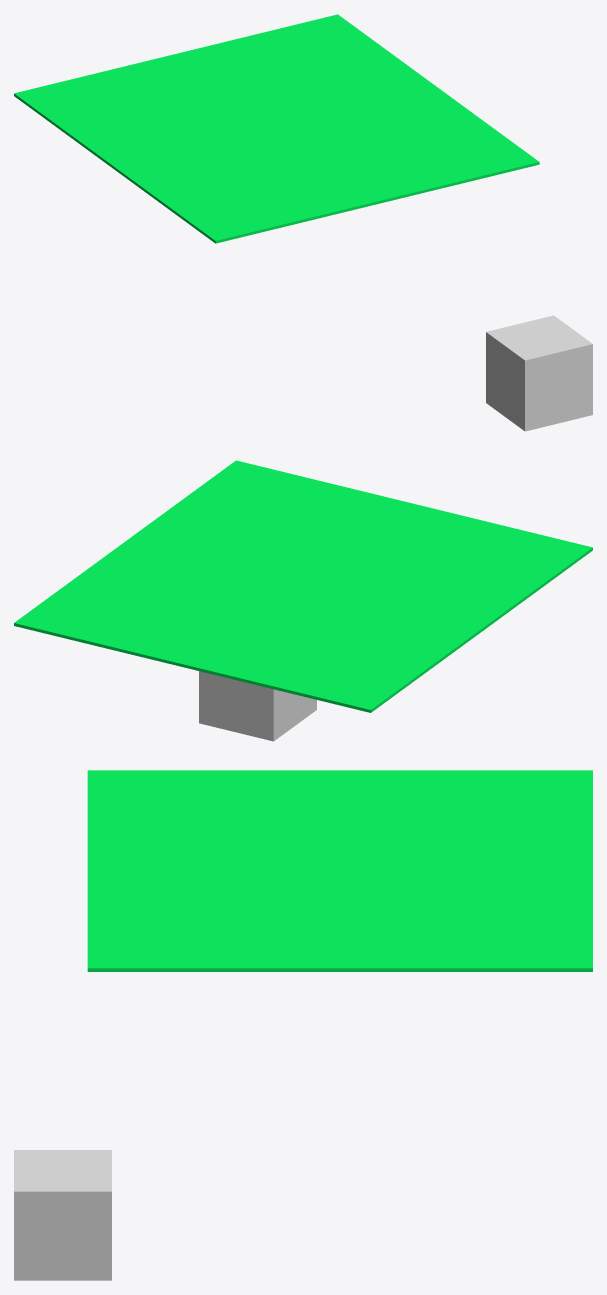
Rendered from directional-simple.dae.
3 renders of one model, top to bottom at view 1: azimuth 30°, elevation 25°; view 2: azimuth 150°, elevation 25°; view 3: azimuth 270°, elevation 25°, orthographic. The views are drawn at different scales.
Visible parts, largest first — view 1: Ceiling, Cube; view 2: Ceiling, Cube; view 3: Ceiling, Cube.
Part boxes in pixels (x1,y1,x2,y2): Ceiling: (14,14,539,243); Cube: (486,315,592,431); Ceiling: (14,460,592,712); Cube: (199,671,316,741); Ceiling: (87,770,592,971); Cube: (14,1150,111,1280).
Size of what is drawn, in the model's own units: 10.25 by 11.8 by 6.69.
